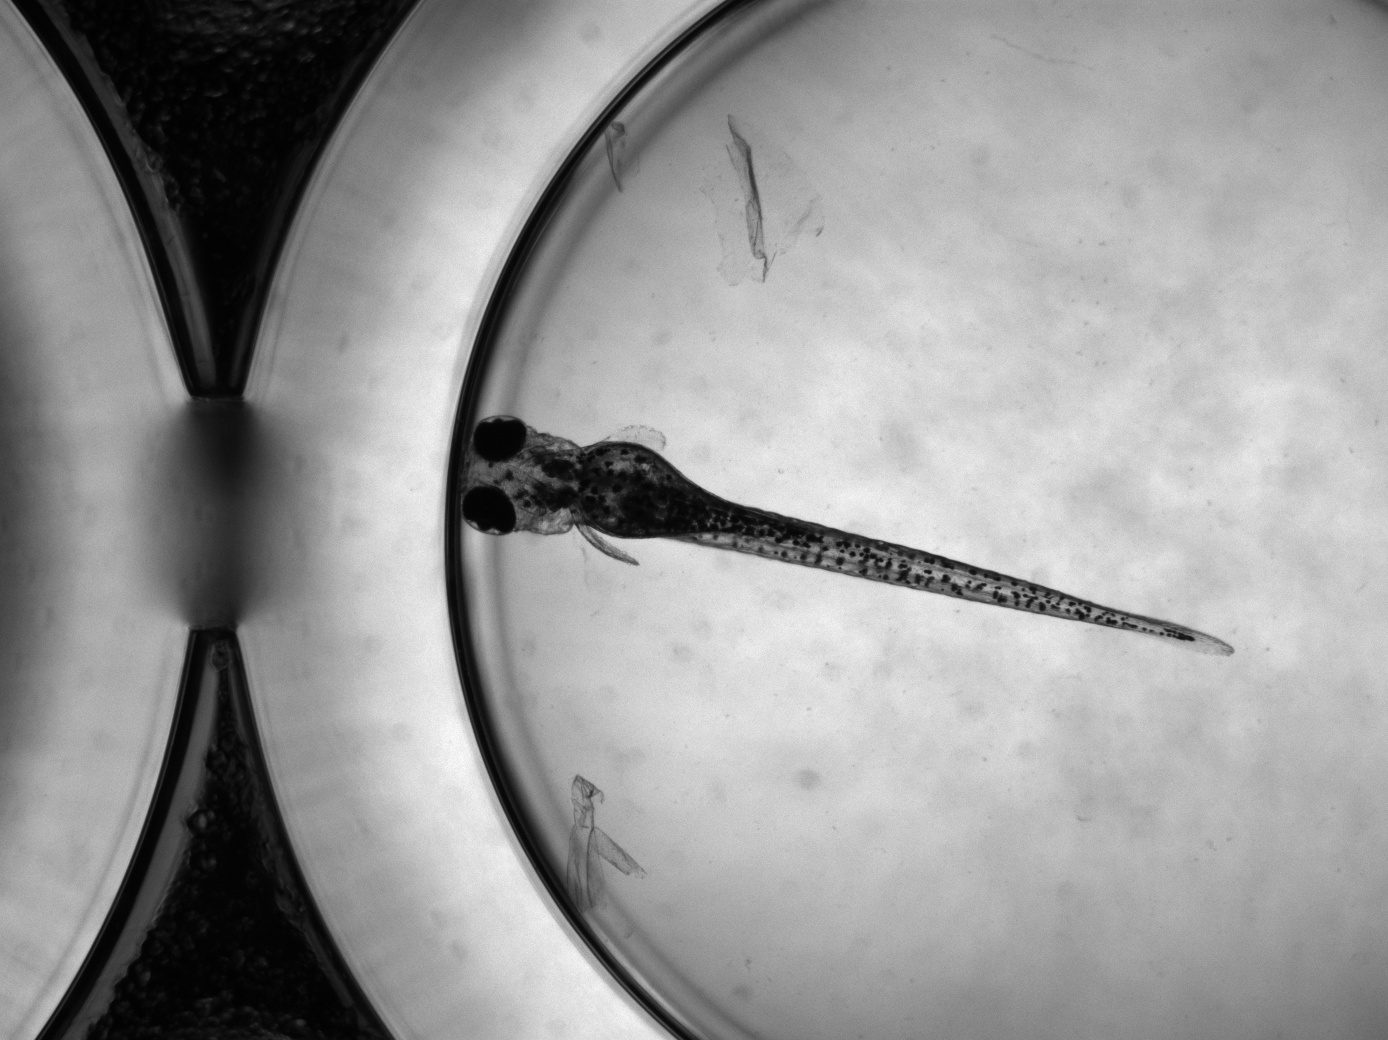debris: (698, 113, 827, 282), (563, 772, 646, 913)
embryo: (460, 415, 1233, 658)
eye: (462, 486, 517, 536), (473, 416, 526, 462)
yolksac: (577, 441, 693, 539)
